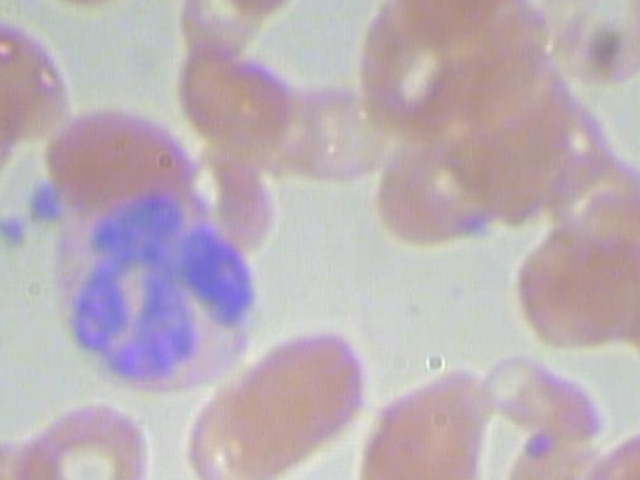Platelets: (16, 179, 70, 228), (0, 203, 40, 252)
RBC: (220, 324, 368, 460), (40, 98, 199, 221), (344, 361, 499, 480), (504, 228, 640, 363), (369, 125, 515, 246), (267, 76, 408, 193), (168, 41, 309, 158), (463, 351, 609, 447), (163, 390, 304, 480), (3, 399, 158, 480), (530, 148, 640, 260), (520, 0, 640, 91), (0, 19, 85, 142), (584, 413, 640, 480)
WBC: (51, 186, 268, 405)
